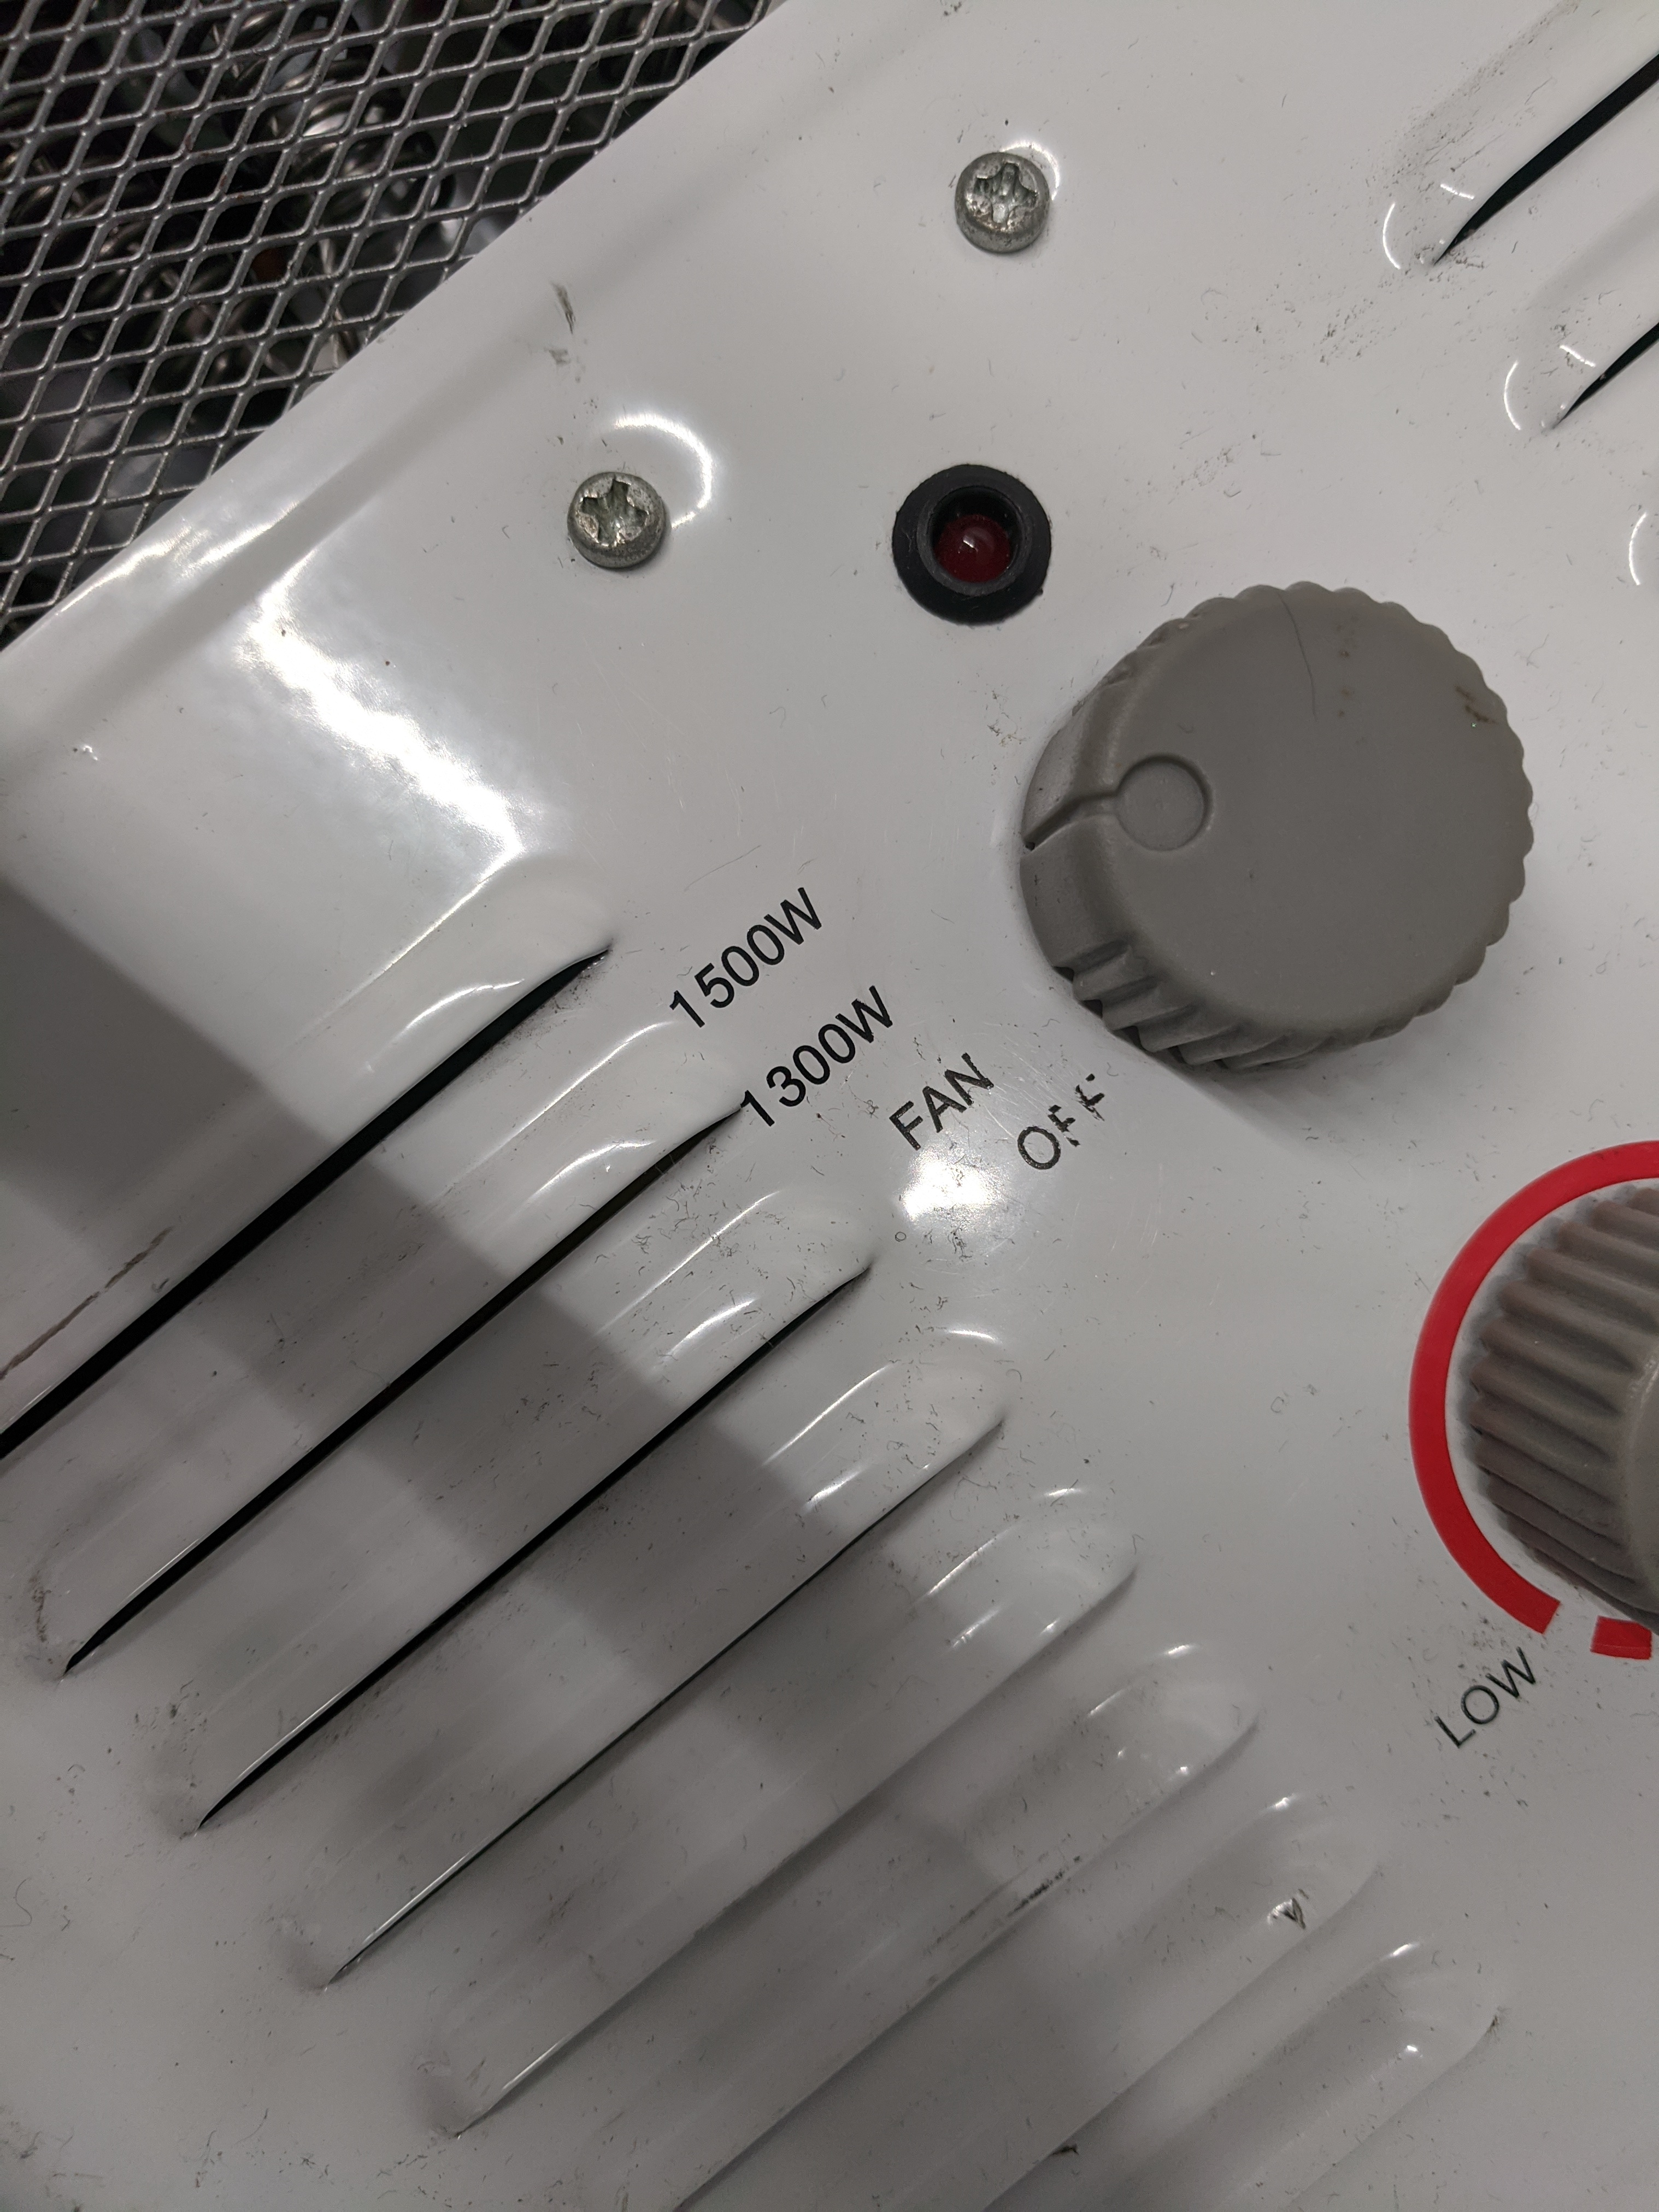cross_recessed_screw: (946, 129, 1065, 249), (554, 462, 669, 557)
